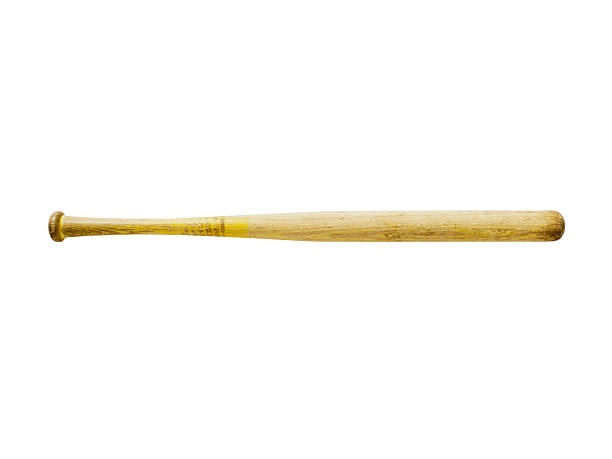bita: (46, 210, 568, 250)
